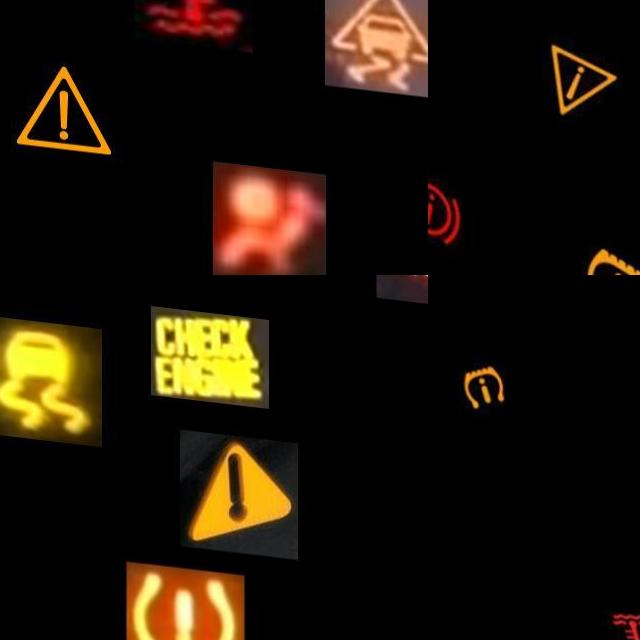Central Warning lamp: (5, 41, 123, 170), (180, 424, 298, 552)
Engine cooling system: (134, 0, 252, 45)
